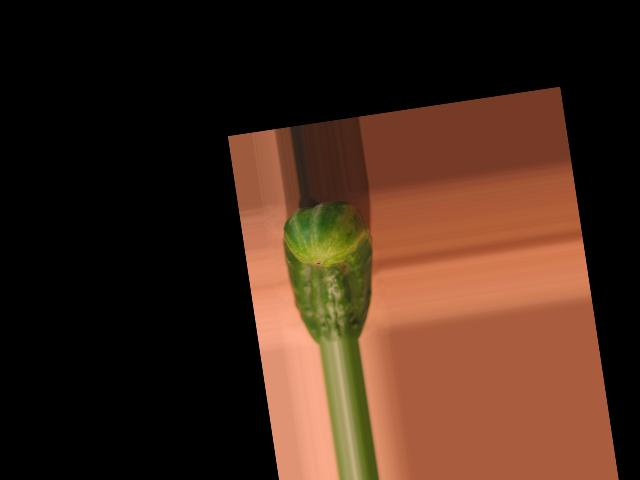cucumber: (277, 197, 385, 348)
